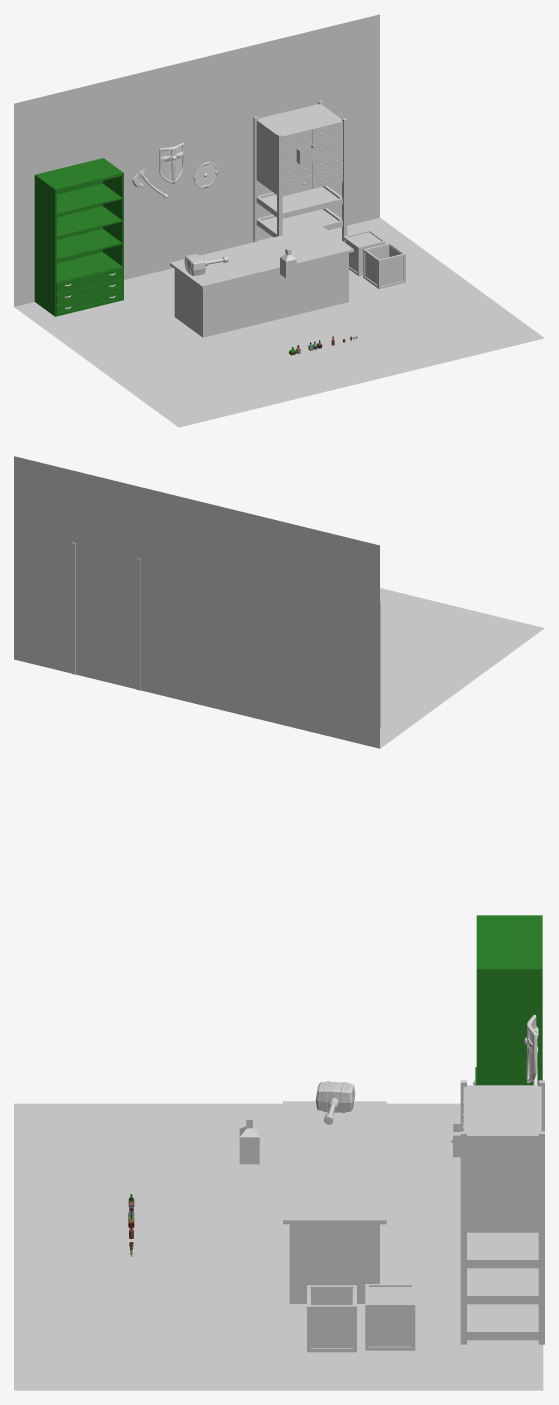
File: Store.fbx
3 views of the same model, one above another, from view 1: azimuth 30°, elevation 25°; view 2: azimuth 150°, elevation 25°; view 3: azimuth 270°, elevation 25° (orthographic). The views are drawn at different scales.
Parts seen in each view (by area): view 1: Plane, Table, Wardrobe_1, Cube.003, Cube.005, Cube.006, Retopo_Shield_2.004, Cube.007, Cube.001, Retopo_Round_shield6; view 2: Plane, Cube.005; view 3: Plane, Table, Cube.003, Cube.005, Wardrobe_1, Cube.006, Cube.001, Cube.004, Cube.007, Cube.008, Cube.
Boxes of the visible parts, x1,y1,x2,y2 form: Plane: (14,14,544,427); Table: (170,225,353,337); Wardrobe_1: (34,158,123,316); Cube.003: (256,104,342,196); Cube.005: (253,100,347,242); Cube.006: (365,245,403,285); Retopo_Shield_2.004: (159,143,184,183); Cube.007: (363,243,405,288); Cube.001: (345,232,383,272); Retopo_Round_shield6: (193,162,217,188); Plane: (14,456,544,748); Cube.005: (72,542,140,690); Plane: (14,1103,543,1390); Table: (283,1101,386,1303); Cube.003: (453,1085,541,1232); Cube.005: (460,1080,544,1344); Wardrobe_1: (475,915,542,1085); Cube.006: (310,1288,353,1348); Cube.001: (369,1287,411,1346); Cube.004: (365,1284,415,1350); Cube.007: (307,1285,356,1352); Cube.008: (239,1117,259,1164); Cube: (315,1082,355,1112).
Bounding box in the file's own units: 856 × 454 × 669.
